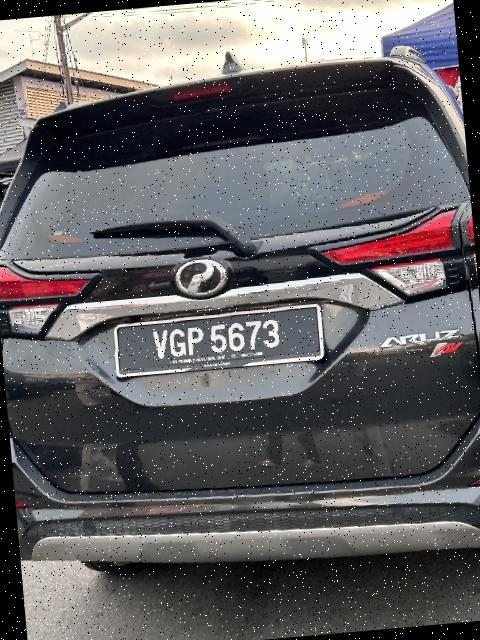License_Plate: (111, 300, 324, 380)
VGP5673: (111, 300, 324, 380)
car: (1, 39, 480, 593)
